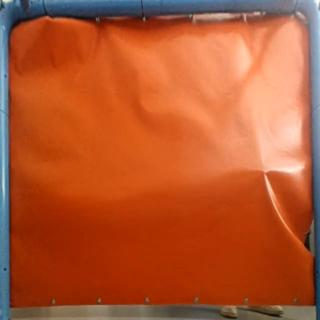Hit-hRxx: (256, 166, 274, 179)
